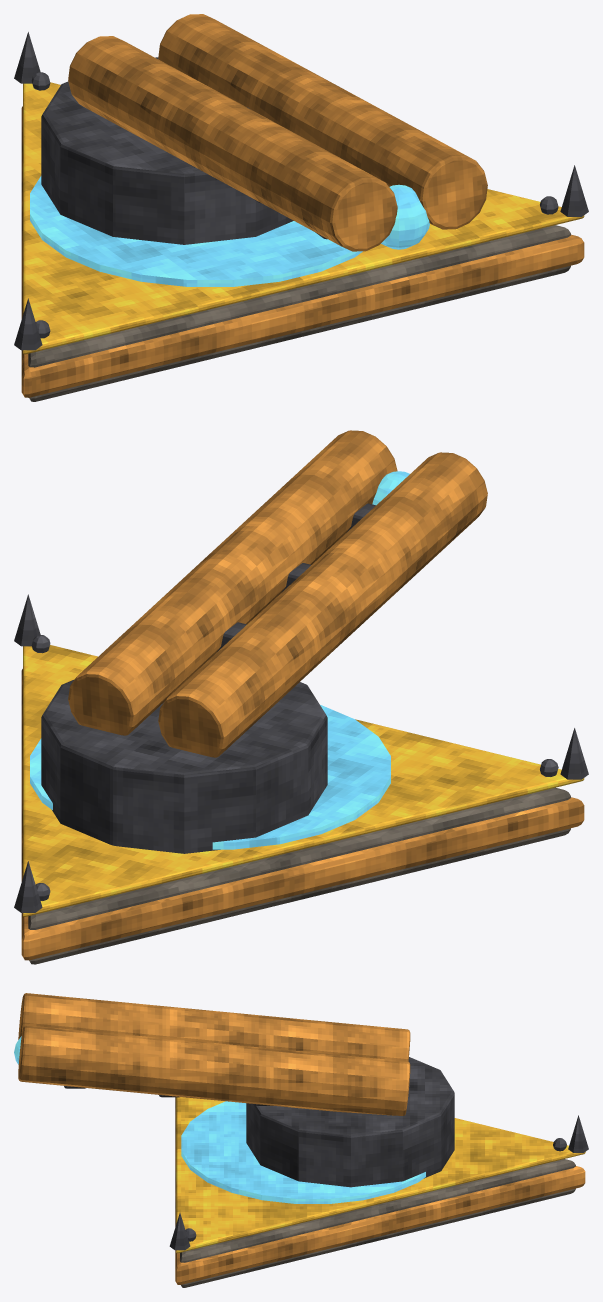
Rendered from weapon_railgun.gltf.
3 renders of one model, top to bottom at view 1: azimuth 30°, elevation 25°; view 2: azimuth 150°, elevation 25°; view 3: azimuth 270°, elevation 25°, orthographic. The views are drawn at different scales.
Parts seen in each view (by area): view 1: Crown_brass, Tier4_gold, Crown_iron, Tier4_rune, Crown_stone, Tier3_iron, Crown_rune, Tier2_iron; view 2: Crown_brass, Crown_iron, Tier4_gold, Crown_stone, Tier4_rune, Tier3_iron, Tier2_iron; view 3: Crown_brass, Crown_iron, Tier4_gold, Tier4_rune, Crown_stone, Tier3_iron.
Boxes of the visible parts, box(x1,y1,x2,y2) form: Crown_brass: box(21, 14, 584, 397); Tier4_gold: box(23, 82, 584, 354); Crown_iron: box(41, 57, 327, 244); Tier4_rune: box(30, 176, 362, 286); Crown_stone: box(28, 225, 570, 401); Tier3_iron: box(14, 32, 588, 350); Crown_rune: box(381, 184, 429, 249); Tier2_iron: box(31, 72, 558, 338); Crown_brass: box(21, 430, 584, 960); Crown_iron: box(41, 503, 375, 853); Tier4_gold: box(23, 645, 584, 916); Crown_stone: box(28, 787, 570, 964); Tier4_rune: box(30, 705, 390, 849); Tier3_iron: box(14, 594, 588, 912); Tier2_iron: box(31, 635, 558, 900); Crown_brass: box(18, 993, 585, 1284); Crown_iron: box(64, 1057, 454, 1187); Tier4_gold: box(176, 1097, 585, 1253); Tier4_rune: box(181, 1101, 425, 1203); Crown_stone: box(180, 1159, 575, 1287); Tier3_iron: box(169, 1115, 588, 1250).
Bounding box in the file's own units: 1.01 × 0.4248 × 1.21.
5 materials, 5 textured.
